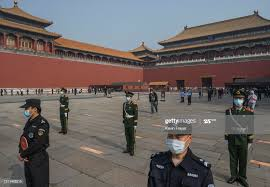Good: (146, 90, 255, 187), (143, 85, 215, 187), (15, 87, 74, 187), (57, 88, 139, 158), (120, 86, 162, 157)
